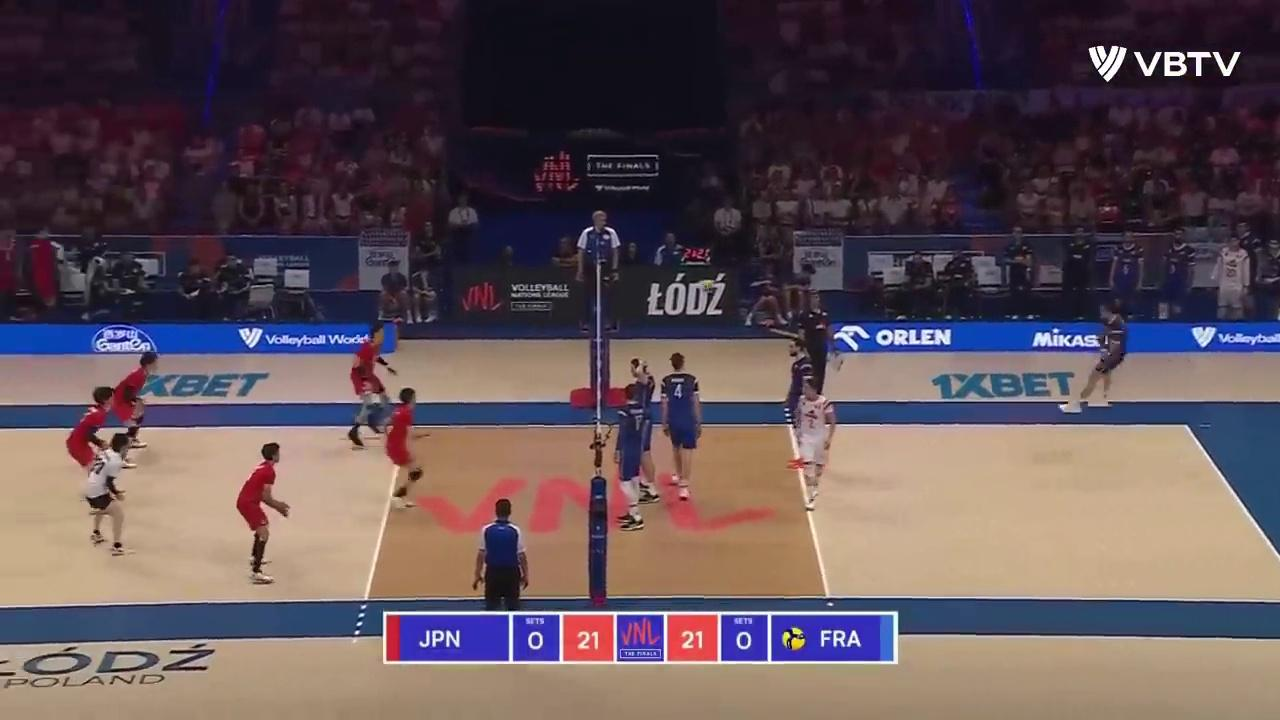ball: (701, 281, 716, 291)
